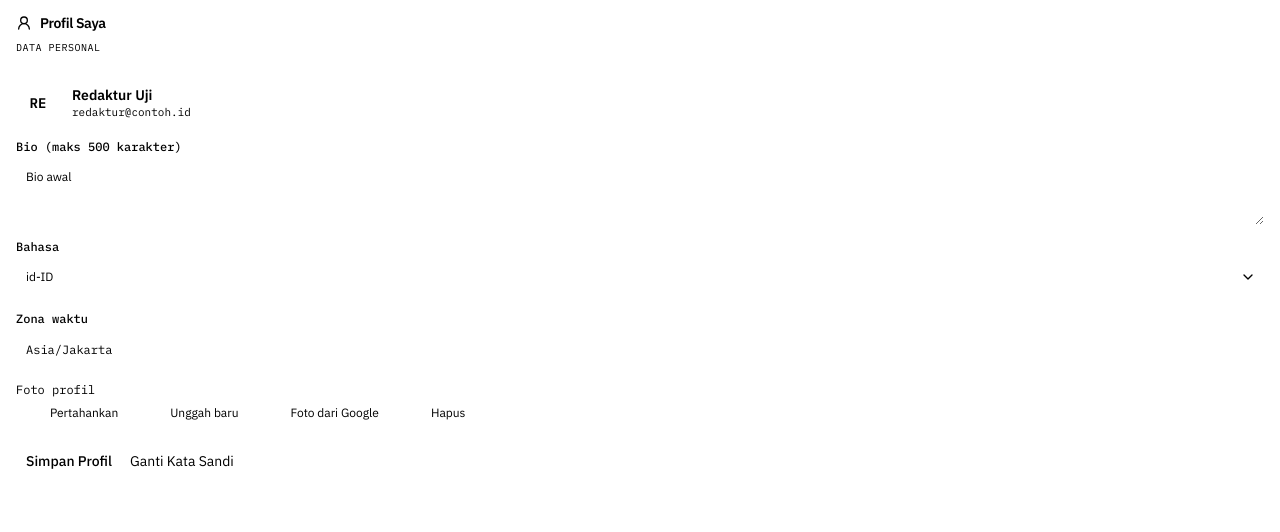
Test: Formulir profil › menyimpan bio lewat API dan menampilkan pemberitahuan
The width and height of the screenshot is (1280, 532).
Expected: the text "Redaktur Uji" is shown, [72,86,152,104]
Replace the text in the text box labelled "Bio (maks 500 karakter)" with "Bio baru redaksi" at (640, 193), box [16,161,1264,225]
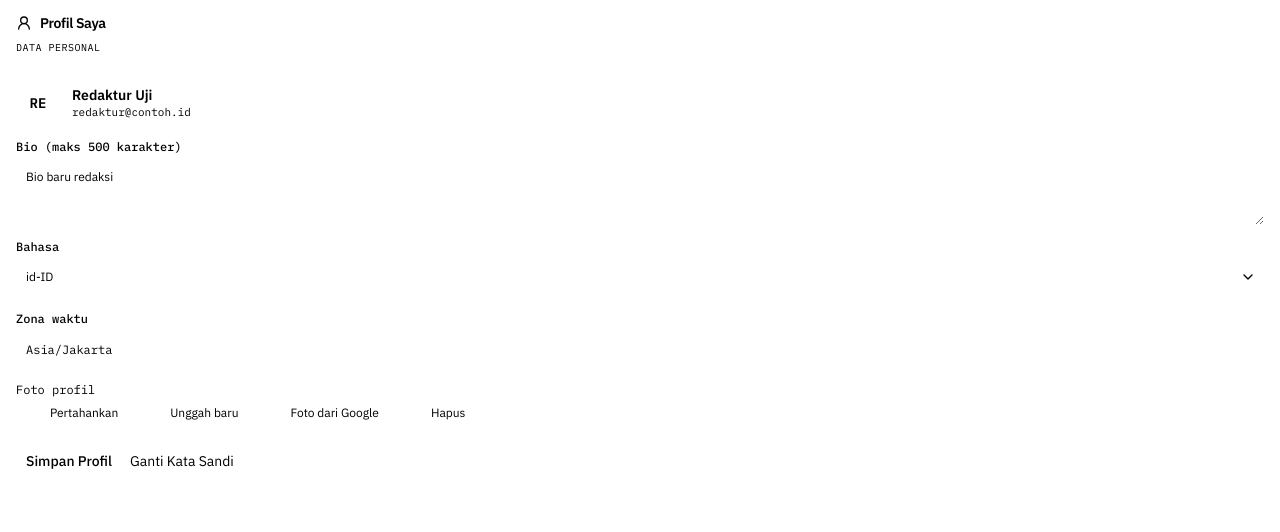
Submit the form labelled "Bio (maks 500 karakter)"
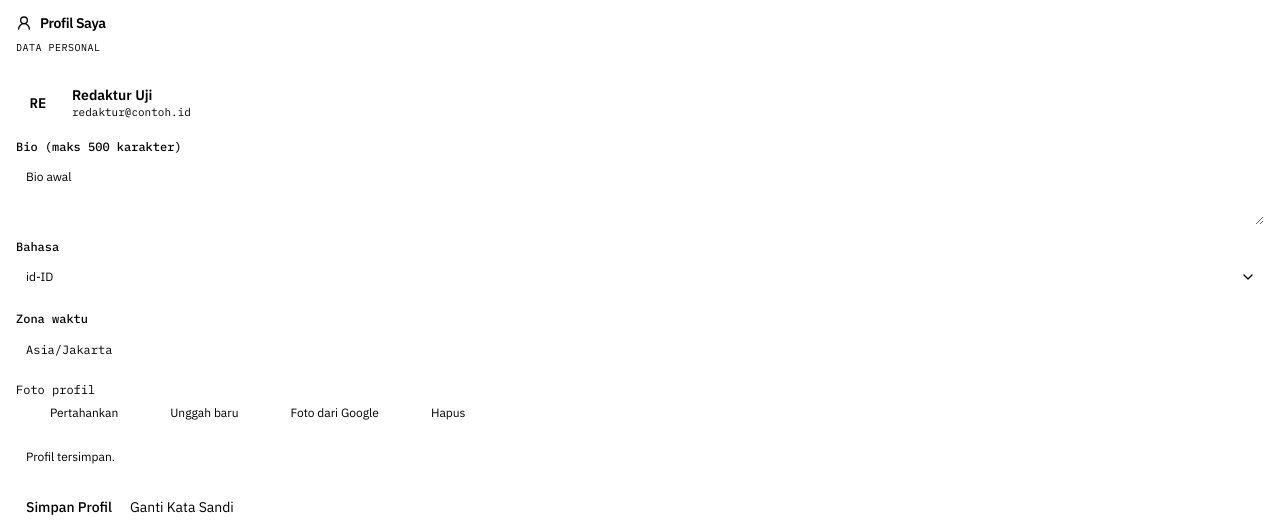
Now the text "Profil tersimpan." is shown, box [26,449,115,464]
